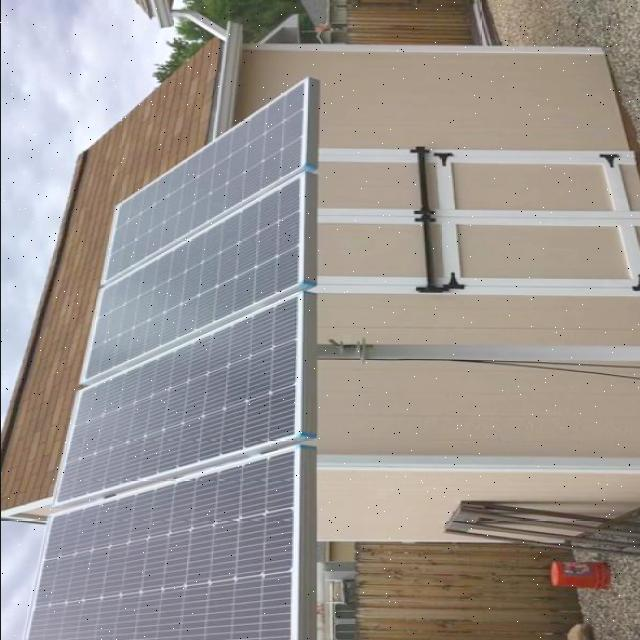Normal Solar Panel: (23, 448, 314, 640), (55, 297, 315, 505), (86, 175, 314, 378), (102, 78, 316, 282)
